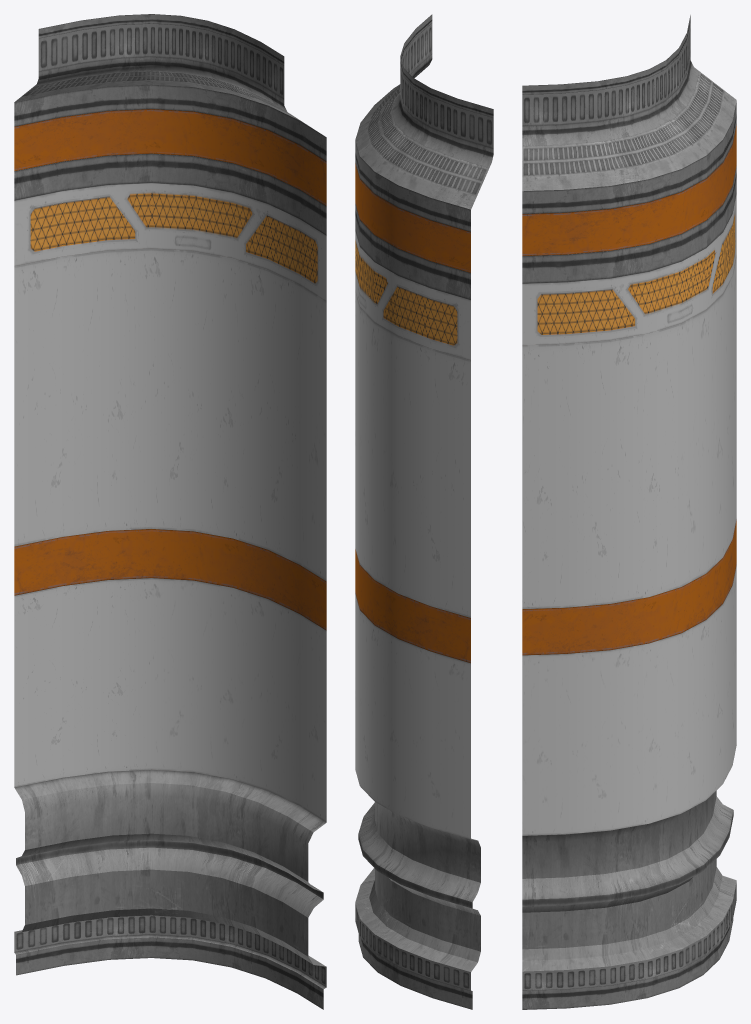
File: CornerShorter.fbx
The picture shows the model from 3 angles, left to right: view 1: azimuth 30°, elevation 25°; view 2: azimuth 150°, elevation 25°; view 3: azimuth 270°, elevation 25°; orthographic projection. The views are drawn at different scales.
Parts seen in each view (by area): view 1: CornerShorter; view 2: CornerShorter; view 3: CornerShorter.
Boxes of the visible parts, x1,y1,x2,y2 form: CornerShorter: (14, 14, 326, 1009); CornerShorter: (355, 14, 493, 1009); CornerShorter: (522, 15, 736, 1009).
Size of the model in its own units: 1.89 by 8.76 by 1.88.
